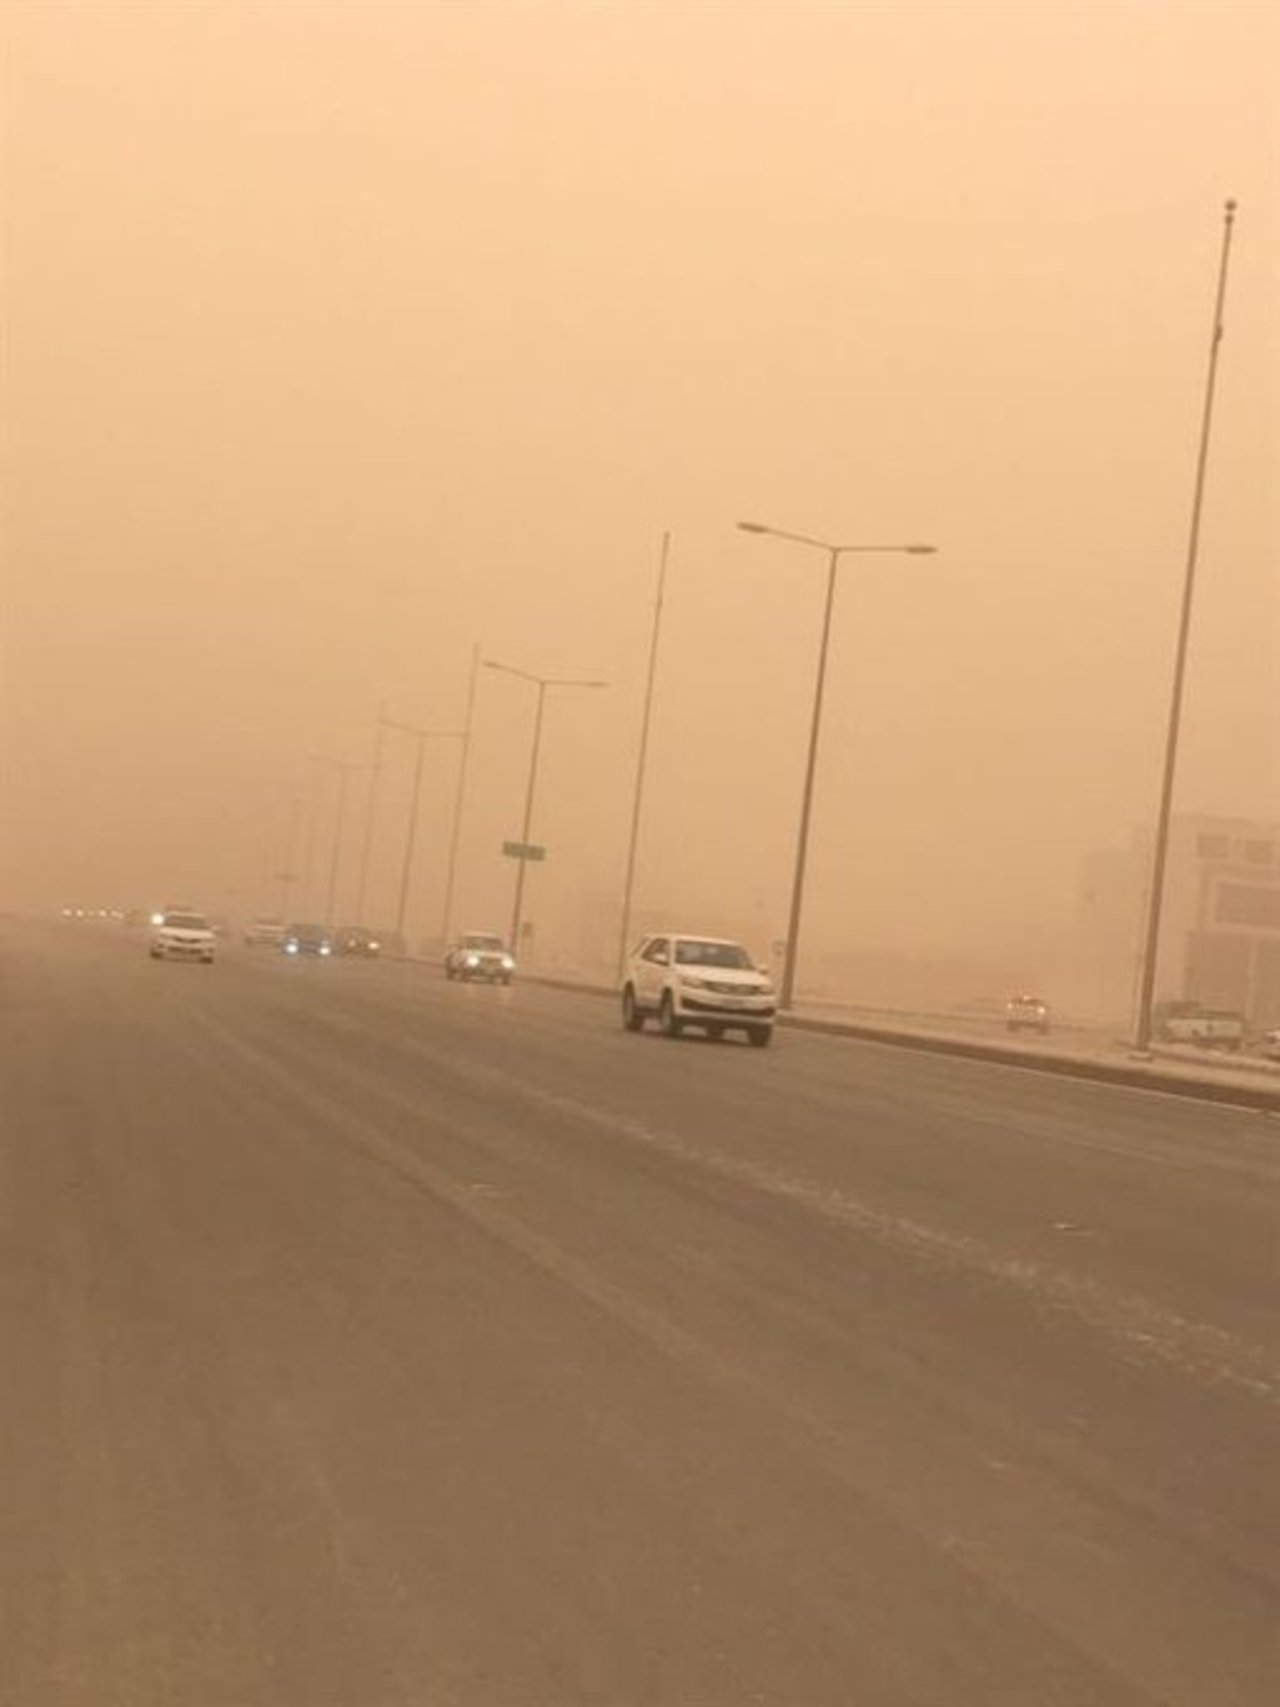car: (624, 926, 777, 1047), (1158, 1005, 1248, 1052), (442, 935, 516, 988), (151, 911, 216, 966), (1006, 992, 1051, 1035), (333, 923, 381, 958), (282, 922, 325, 956), (243, 915, 285, 944)
